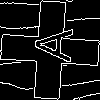A: (25, 25, 73, 63)
